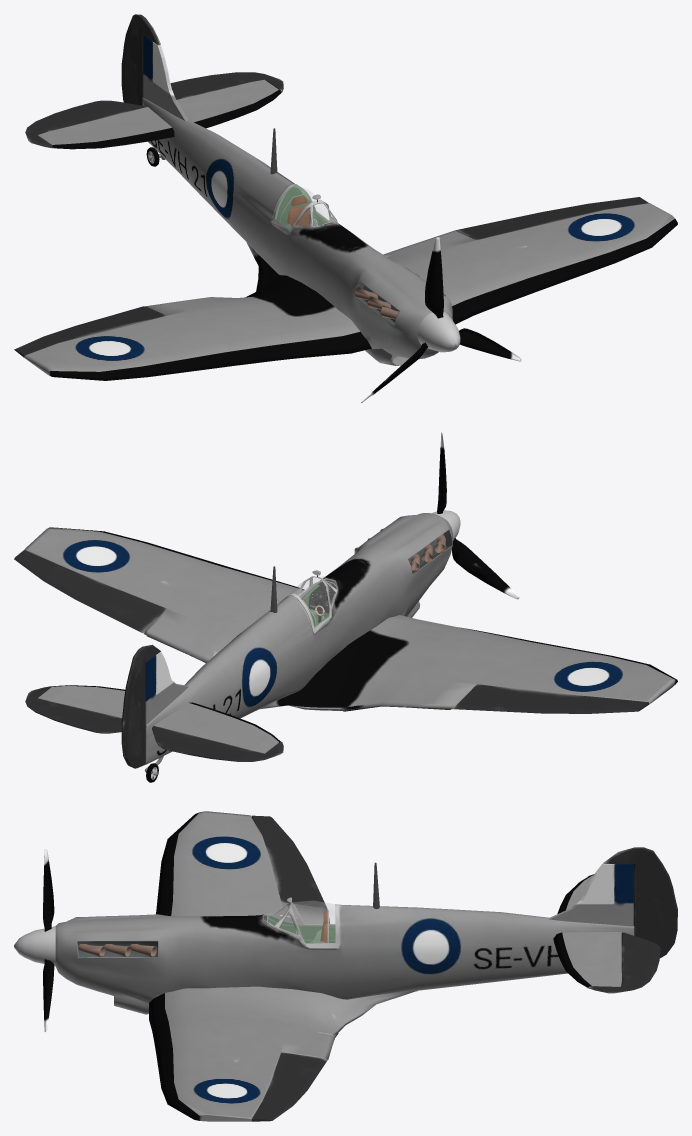
The model's file is spitfire-ix.glb.
3 renders of one model, top to bottom at view 1: azimuth 30°, elevation 25°; view 2: azimuth 150°, elevation 25°; view 3: azimuth 270°, elevation 25°, orthographic.
Parts seen in each view (by area): view 1: Object_7, Object_8, Object_9, Object_10; view 2: Object_7, Object_9, Object_8, Object_10; view 3: Object_7, Object_8, Object_10, Object_9.
Boxes of the visible parts, x1,y1,x2,y2 form: Object_7: (14,14,674,403); Object_8: (50,90,677,380); Object_9: (270,128,336,229); Object_10: (276,185,335,228); Object_7: (14,432,675,782); Object_9: (270,566,336,626); Object_8: (53,527,677,742); Object_10: (289,576,335,625); Object_7: (14,811,677,1121); Object_8: (149,812,591,1120); Object_10: (264,900,334,942); Object_9: (263,862,379,943).
Bounding box in the file's own units: 10.28 × 2.63 × 9.5.
Materials: 4 (2 with a texture image).
